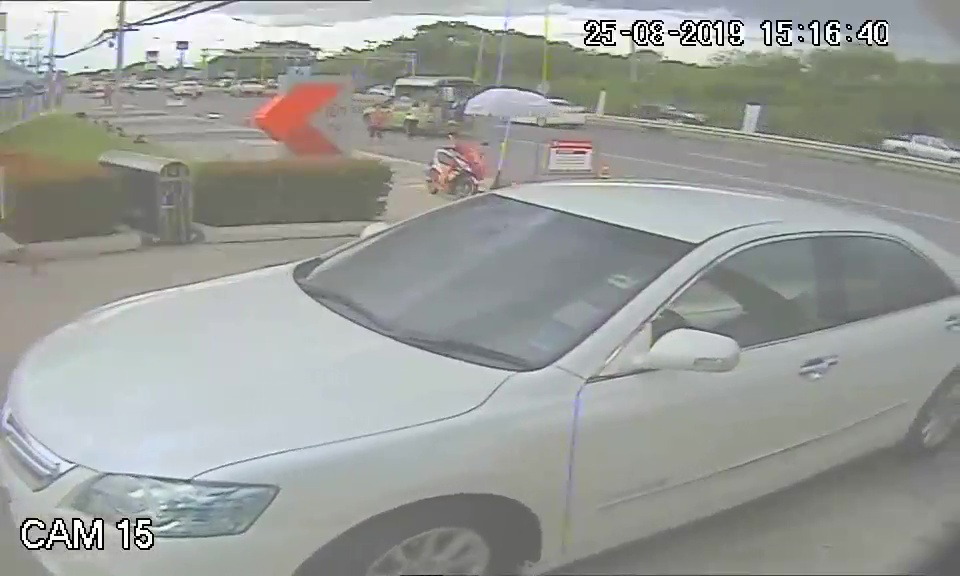sedan: (18, 170, 847, 575)
